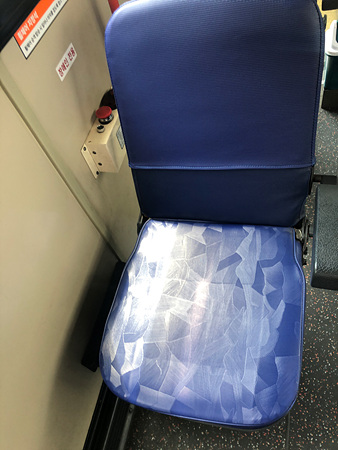seat: (100, 8, 311, 413)
